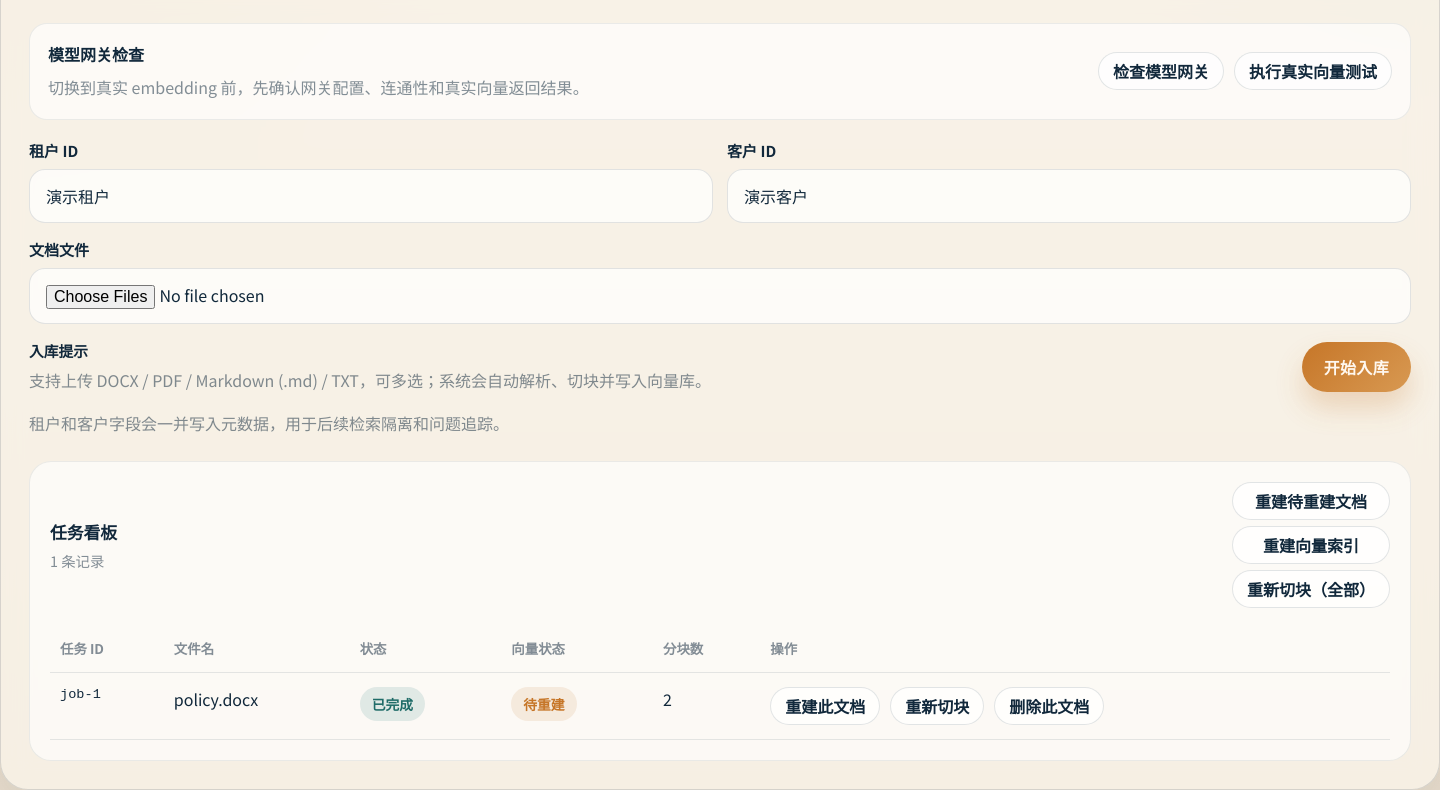
Test: shows stale vector status and rebuilds a single document
(page scrolled)
Expected: the text "待重建" is shown, [511,687,577,721]
Click the button "重建此文档" at (825, 706), box [770,687,880,725]
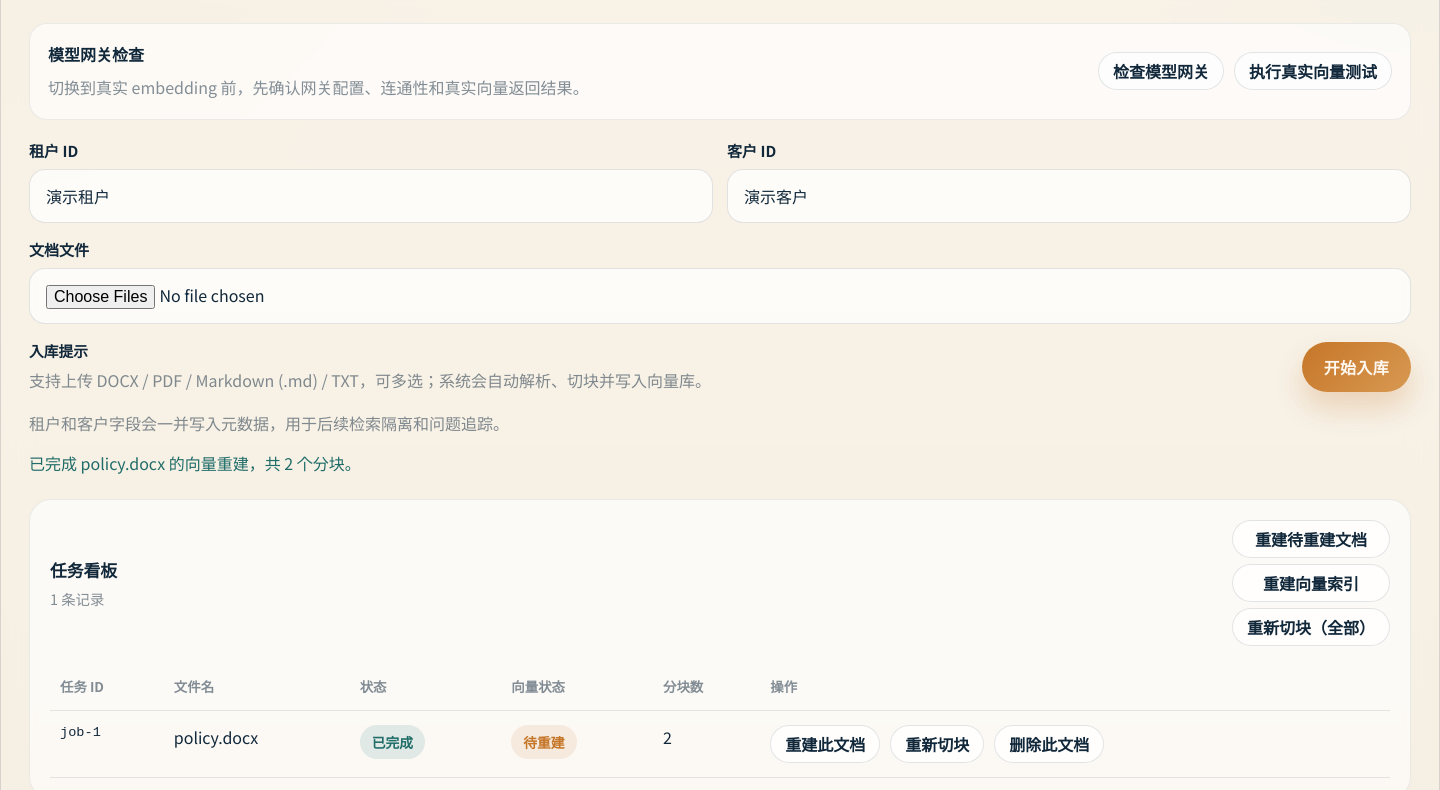
Result: the text "已完成 policy.docx 的向量重建，共 2 个分块。" is shown at [29,451,361,475]
